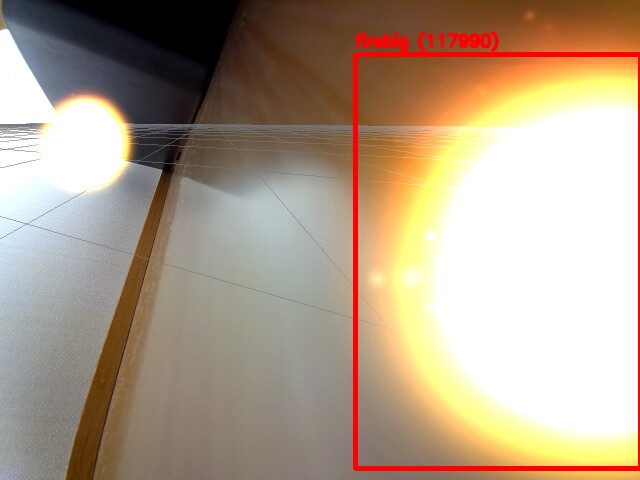firebig: (355, 54, 640, 468)
